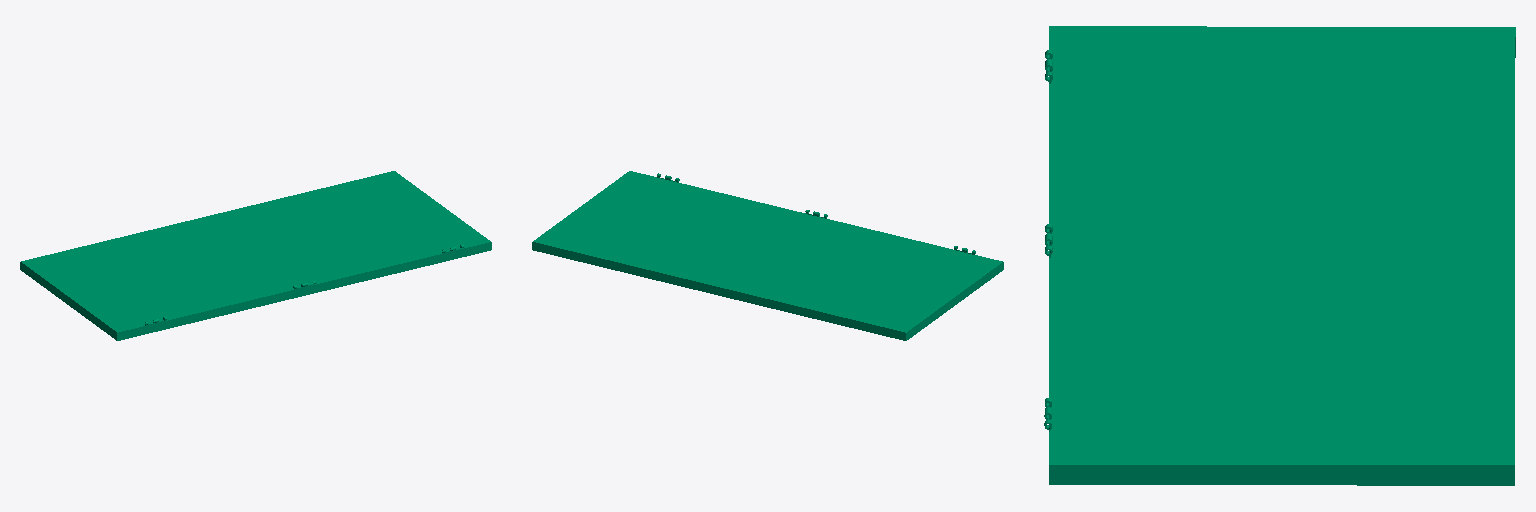
URDF robot description (door_test):
<robot name = 'door_test' xmlns:xacro="http://ros.org/wiki/xacro">
    <!-- <link name = 'world'/> -->
    
    <!-- <joint name = 'world2base' type = 'fixed'>
        <parent link = 'world'/>
        <child link = 'base_link'/>
    </joint> -->

    <link name = 'base_link'/>
        
    <joint name = 'base_joint' type = 'fixed'>
        <parent link = 'base_link'/>
        <origin xyz = '0.4 -0.5 -0.4'/>
        <child link = 'door_frame'/>
    </joint>

    <link name = 'door_frame'>
        <visual>
            <geometry>
                <mesh filename = './meshes/frame.dae'/>
            </geometry>
            <origin xyz = '0.5 0 0' rpy = '1.57 0 0'/>
            <color rgba = '0.5 0.5 0.5 1.0'/>
        </visual>
        <collision name="frame_collision_1">
            <geometry>
                <box size = '0.05029 0.06858 2.10820'/>
            </geometry>
            <origin xyz = '-0.025145 0.95631 1.0541' rpy = '0 0 0'/>
        </collision>
        <collision name="collision_2">
            <geometry>
                <box size = '0.05029 0.06858 2.10820'/>
            </geometry>
            <origin xyz="-0.025145 0.95631 1.0541" rpy="0 0 0"/>
        </collision>
        <collision name="collision_3">
            <geometry>
                <box size = '0.05029 0.92964 0.07366'/>
            </geometry>
            <origin xyz="-0.0251450 0.46482 2.07137" rpy="0 0 0"/>
        </collision>
        <inertial>
            <origin xyz="0 0 0" rpy="0 0 0"/>
            <mass value="10000.0"/>
            <inertia ixx="0.0" ixy="0.0" ixz="0.0" iyy="0.0" iyz="0.0" izz="0.0"/>
        </inertial>
    </link>

    <joint name = 'door_hinge' type = 'revolute'>
        <axis xyz = '0 0 1' rpy = '0 0 0 '/>
        <origin xyz = '-0.06 0.06858 2.040'/>
        <limit lower = '0' upper = '1.57' effort='100' velocity="1000.00"/>
        <dynamics damping="1.0" friction="1.0"/>
        <parent link = 'door_frame'/>
        <child link = 'door'/>
    </joint>

    <link name = 'door'>
        <visual>
            <geometry>
                <mesh filename = './meshes/door.dae'/>
            </geometry>
            <origin xyz = '0.432 0 0' rpy = '-1.57 0 1.57'/>
            <color rgba = '0.5 0.5 0.5 1.0'/>
        </visual>
        <collision name="door_collision">
            <geometry>
                <mesh filename = './meshes/door.dae'/>
            </geometry>
            <origin xyz='-0.068 0 0' rpy = '3.14159 0 1.57'/>
        </collision>
        <inertial>
            <origin xyz="0.4569 0.0349 1.016" rpy="0 0 0"/>
            <mass value="41.3256"/>
            <inertia ixx="14.2053" ixy="0.0004" ixz="0.0000" iyy="17.1997" iyz="0.0000" izz="3.0298"/>
        </inertial>
    </link>

    <joint name = 'door_handle' type = 'revolute'>
        <parent link = 'door'/>
        <origin xyz = '0.013 0.8 -1.0'/>
        <limit lower = '0' upper = '0.785' effort='100' velocity="1000.00"/>
        <dynamics damping="1.0" friction="10.0"/>
        <child link = 'door_handles'/>
    </joint>

    <link name = 'door_handles'>
        <visual>
            <geometry>
                <mesh filename = './meshes/door_handle.dae'/>
            </geometry>
            <origin xyz = '0.5 0 0' rpy = '0 3.141592 1.57'/>
            <color rgba = '0.5 0.5 0.5 1.0'/>
        </visual>
        <visual>
            <geometry>
                <mesh filename = './meshes/door_handle.dae'/>
            </geometry>
            <origin xyz = '0.545 0 0' rpy = '0 0 -1.57'/>
            <color rgba = '0.5 0.5 0.5 1.0'/>
        </visual>
        <collision name="door_handles_collision">
            <geometry>
                <mesh filename="./meshes/door_handle.dae"/>
            </geometry>
            <origin xyz = '0.045 0 0' rpy = '-1.57 0 -1.57'/>
        </collision>
        <inertial>
            <origin xyz="0.0 0.0 0.0" rpy="3.14159 0 1.57"/>
            <mass value="1.0"/>
            <inertia ixx="14.2053" ixy="0.0004" ixz="0.0000" iyy="17.1997" iyz="0.0000" izz="3.0298"/>
        </inertial>
    </link>
    <gazebo reference="world">
        <material>Gazebo/Red</material>
    </gazebo>

</robot>

--- What the picture shows (computed from the rendered views, not written in the file) ---
The picture shows the robot from 3 angles, left to right: view 1: azimuth 30°, elevation 25°; view 2: azimuth 150°, elevation 25°; view 3: azimuth 270°, elevation 25°; orthographic projection.
Robot: door_test — 4 links, 3 joints (2 revolute, 1 fixed); root link base_link; default pose: every joint at zero.
Visible links, largest first — view 1: door; view 2: door; view 3: door.
Boxes of the visible links, bbox=[...] form: door: bbox=[20, 171, 491, 340]; door: bbox=[532, 171, 1003, 340]; door: bbox=[1044, 26, 1515, 485].
Bounding box of the posed robot: 2.03 × 0.9242 × 0.0664 m (x, y, z).
Meshes: 3 distinct files referenced, 1 mesh visuals loaded (1 Collada DAE); not drawn: 3 (reference not matched to a file when rendering).